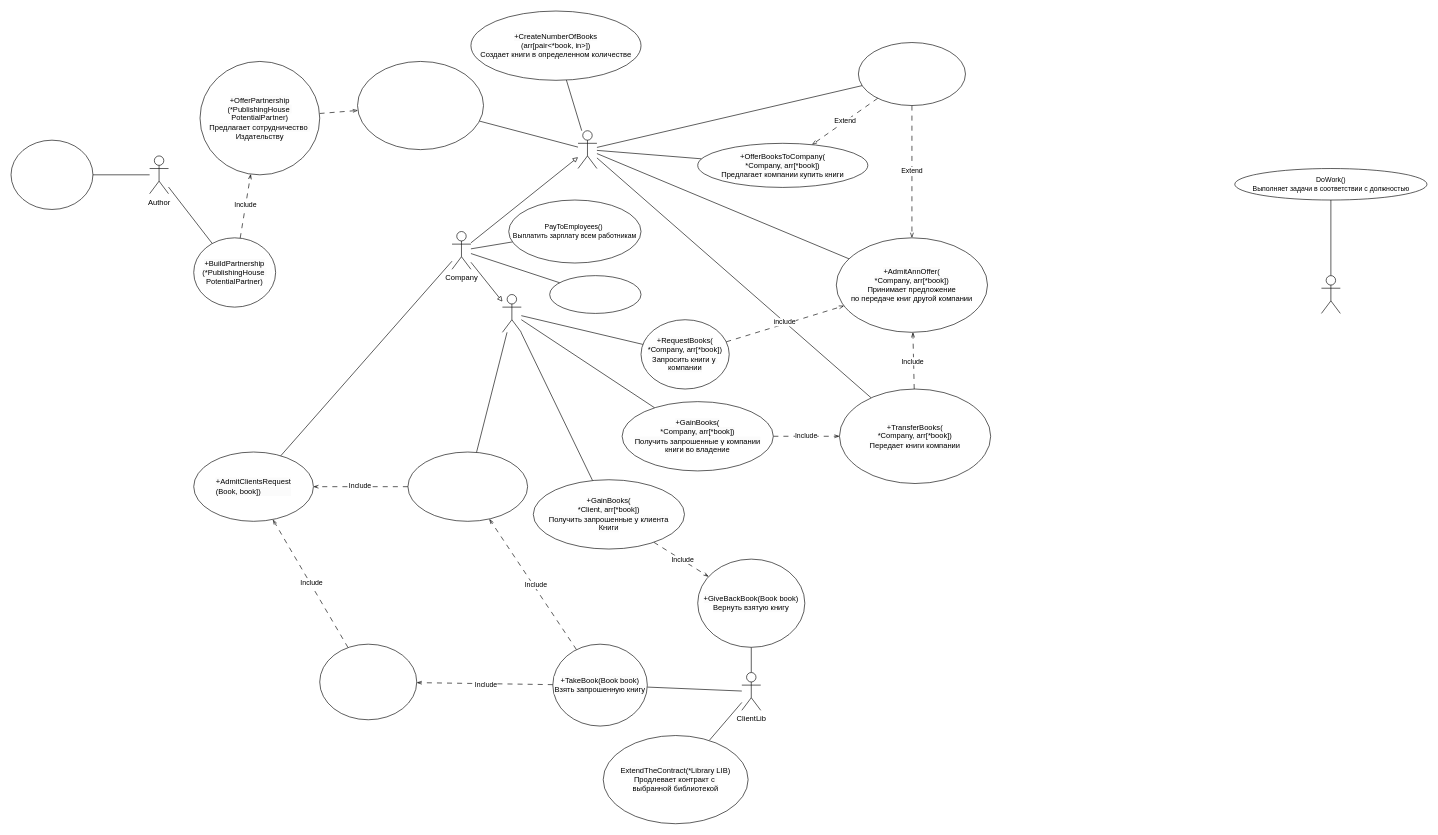
The diagram is 1438 pixels wide and 835 high, and some of its shapes have lost their labels. Each missing label, with the centre of its shape:
+AdmitAnnOffer( ) Принять предложение: point (595, 294)
+AdmitPartnerShip(*Author PotentialPartner) Стать партнером Автора: point (420, 105)
+GiveBook( Book, book]) Выдает запрошенную книгу: point (467, 486)
+RequestBook(*Book book) Запросить книгу: point (368, 682)
+SaleBooksToCompany( *Company, arr[*book]) Продает книги компании: point (911, 74)
+WritteBook() Создает новую книгу: point (51, 174)
Employee: point (1330, 294)
Library: point (511, 313)
PublishingHouse: point (587, 149)
